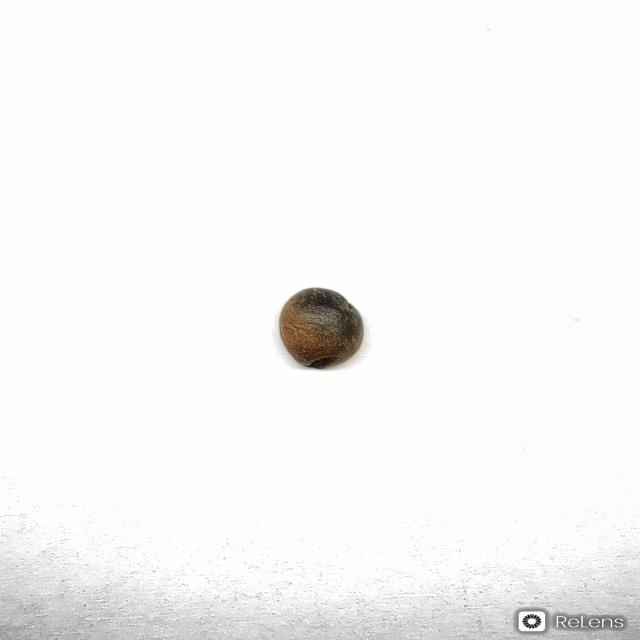Insect damage: (277, 286, 364, 369)
